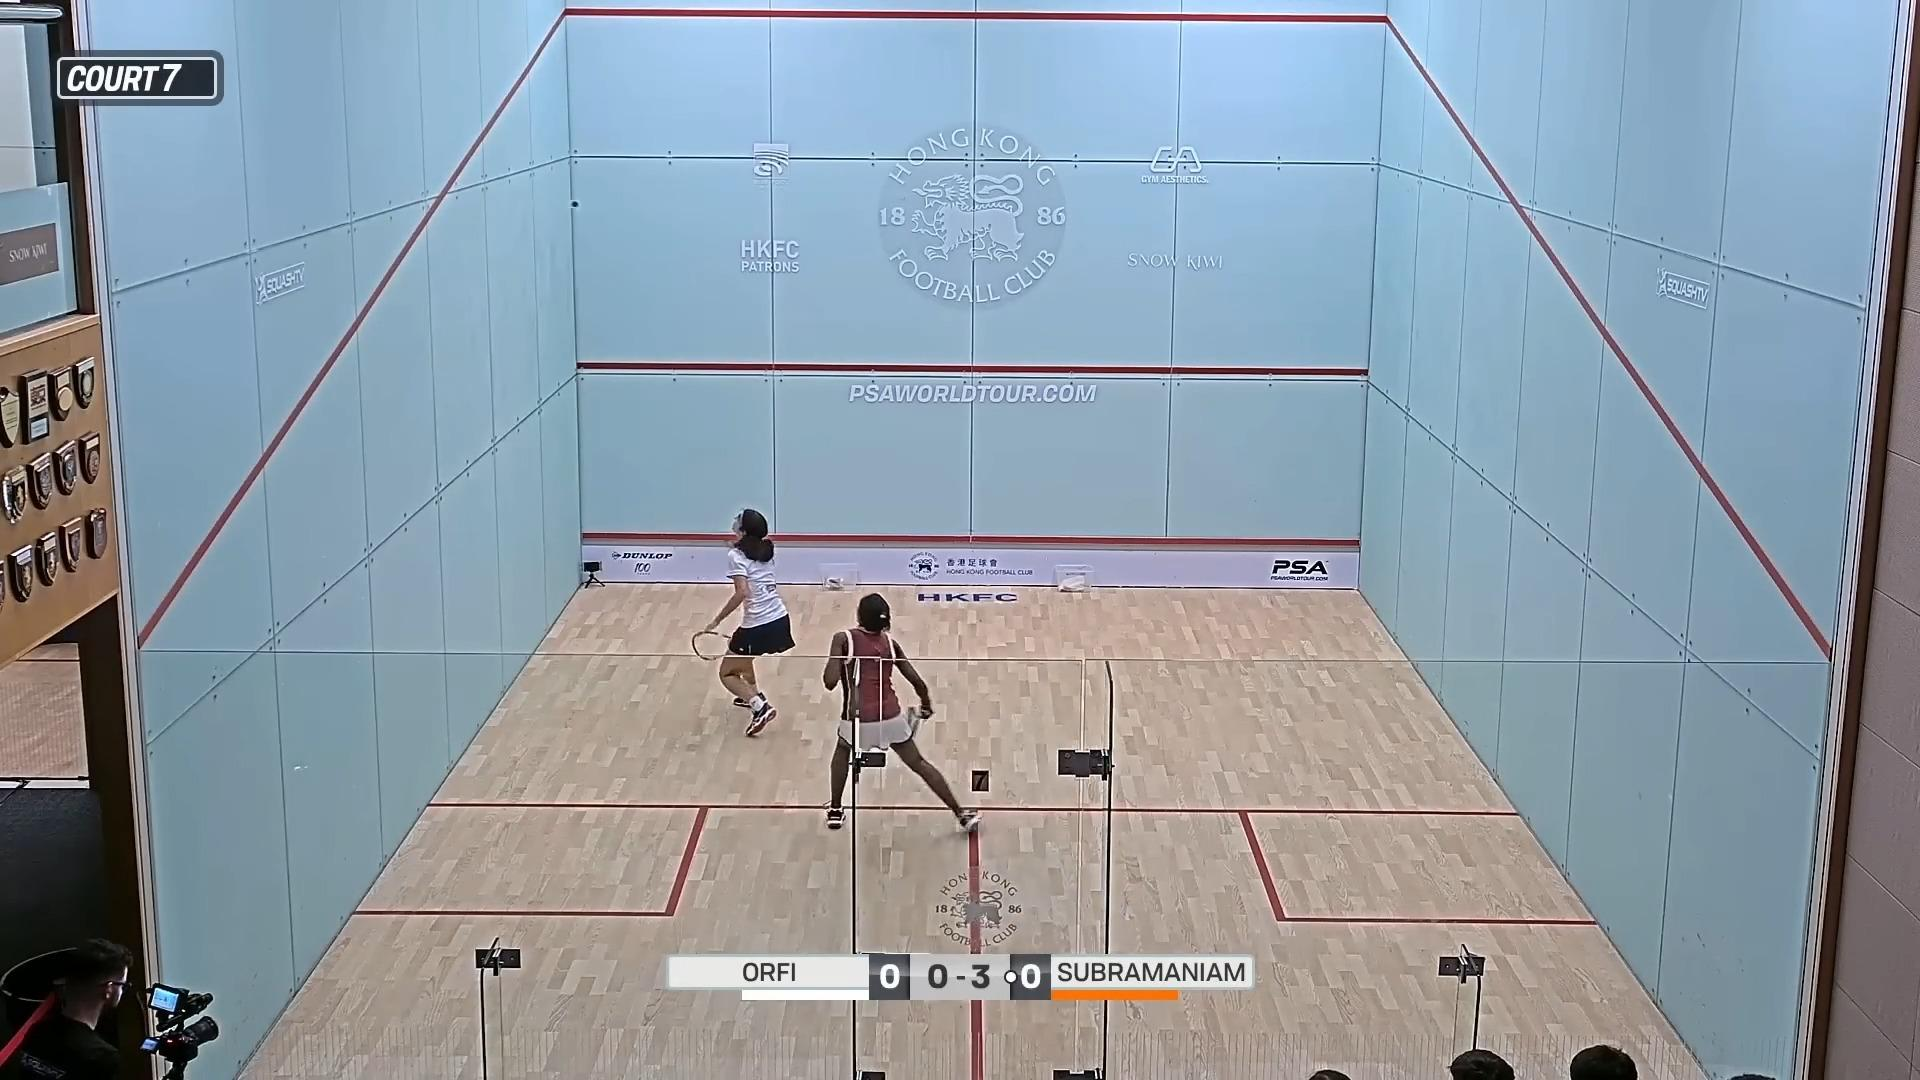Squash-Ball: (566, 191, 584, 214)
